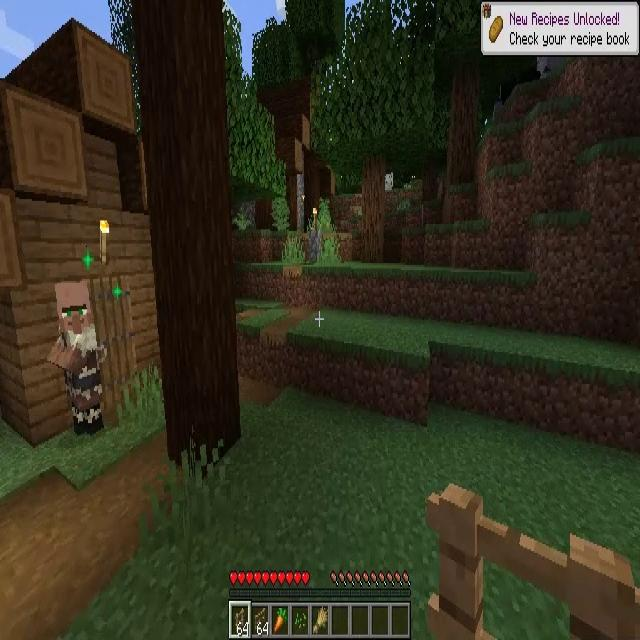people: (48, 278, 104, 434)
